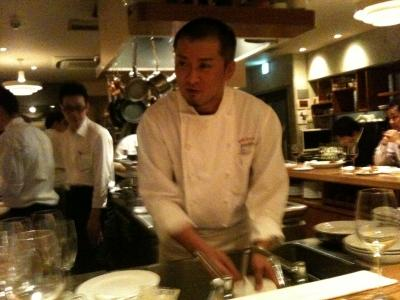person: (138, 20, 289, 291)
